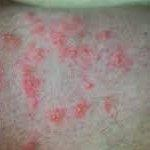Ants: (43, 25, 82, 66), (21, 63, 42, 107), (106, 46, 135, 74), (21, 39, 48, 66), (69, 96, 91, 121), (98, 97, 122, 119), (0, 30, 22, 52), (56, 17, 84, 34), (22, 8, 41, 27), (78, 43, 94, 64), (47, 107, 64, 123), (19, 140, 38, 149), (97, 30, 112, 39), (84, 80, 94, 91), (32, 24, 44, 33)
